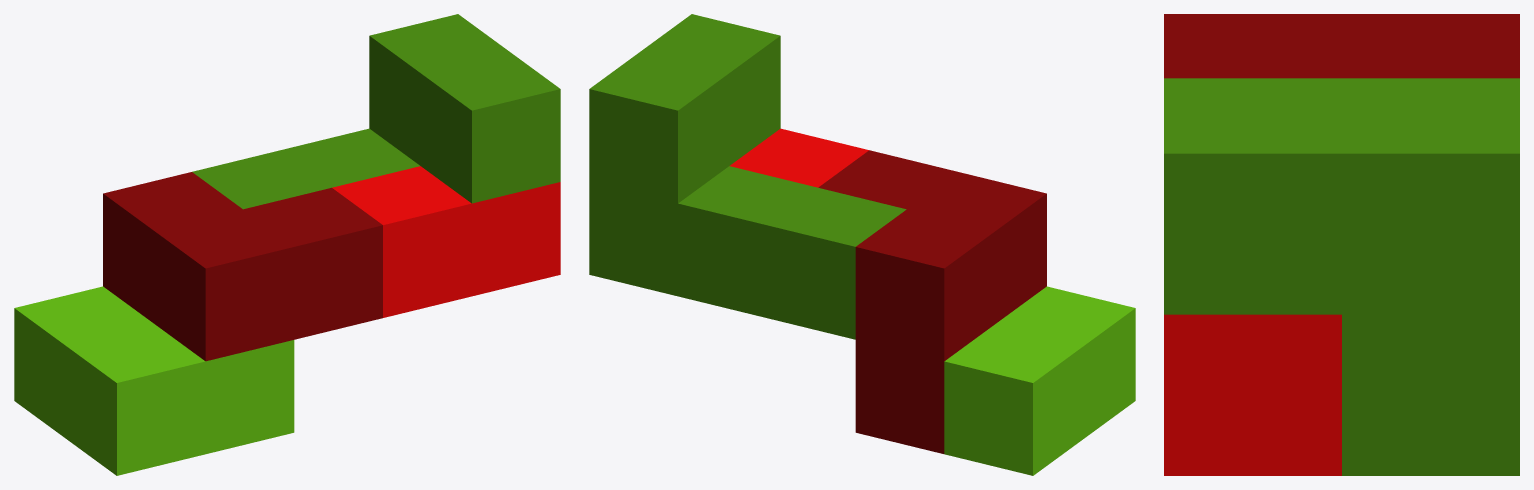
3 views of the same model, side by side, from view 1: azimuth 30°, elevation 25°; view 2: azimuth 150°, elevation 25°; view 3: azimuth 270°, elevation 25° (orthographic). The views are drawn at different scales.
Parts seen in each view (by area): view 1: mergedBlocks(Clone); view 2: mergedBlocks(Clone); view 3: mergedBlocks(Clone).
Part boxes in pixels (<box>): mergedBlocks(Clone): <box>14,14,560,475</box>; mergedBlocks(Clone): <box>589,14,1135,475</box>; mergedBlocks(Clone): <box>1164,14,1519,475</box>.
Size of the model in its own units: 5 by 3 by 2.
4 materials, 4 textured.
